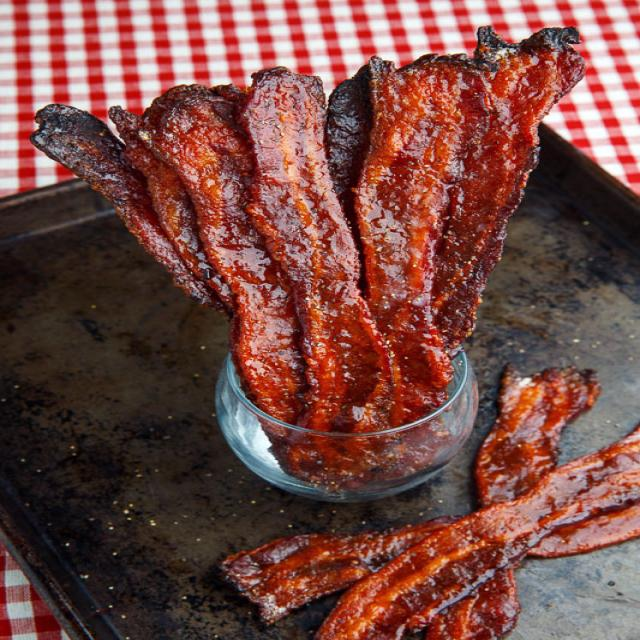Bacon Slice: (52, 52, 595, 448), (191, 469, 640, 640)
